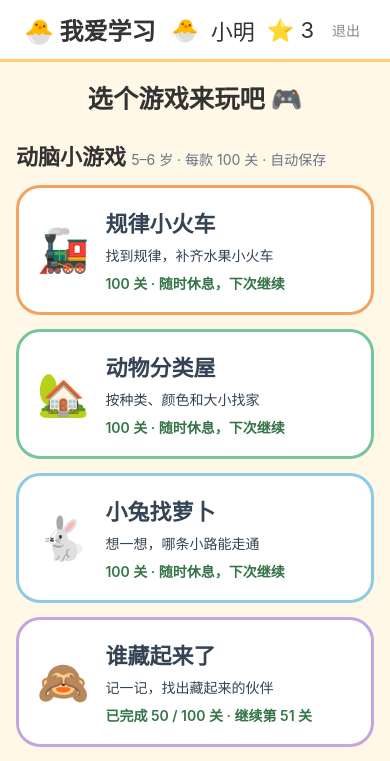
it: GamePage › offers level 51 for a saved fifty-level missing course
The image size is (390, 761).
Expected: the button "🚂 规律小火车 找到规律，补齐水果小火车 100 关 · 随时休息，下次继续" is enabled, top-left (16, 185), bottom-right (374, 315)
Click the button "谁藏起来了" at (195, 682), box top-left (16, 617), bottom-right (374, 747)
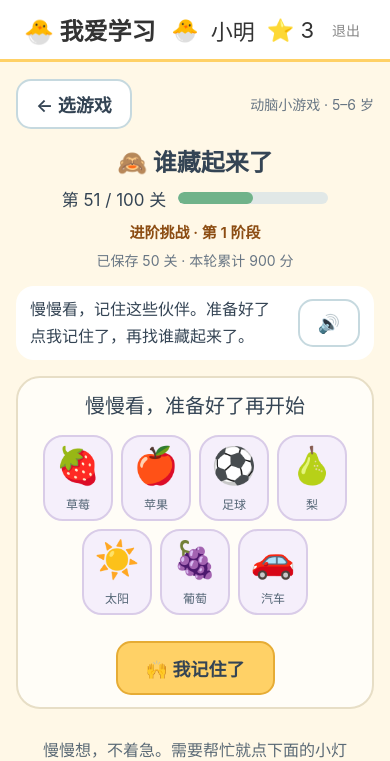
Now the text "第 51 / 100 关" is shown, box top-left (62, 186), bottom-right (166, 211)
Now the text "已保存 50 关 · 本轮累计 900 分" is shown, box top-left (96, 252), bottom-right (294, 269)
